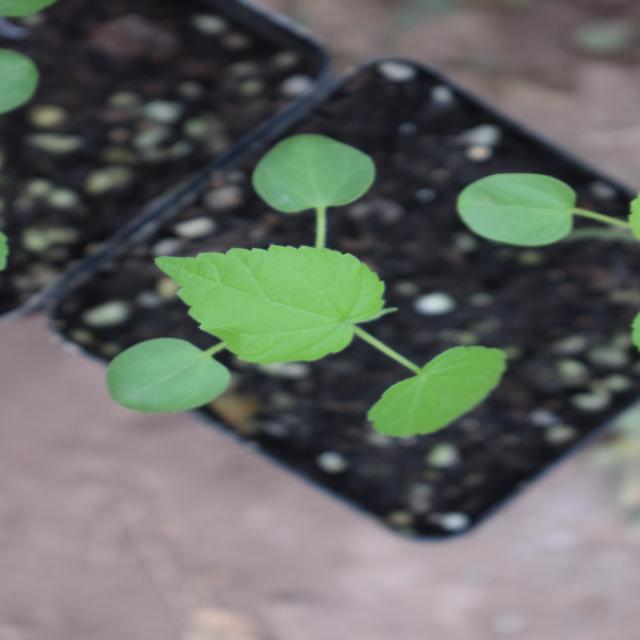abutilon theophrasti: (144, 123, 486, 552)
